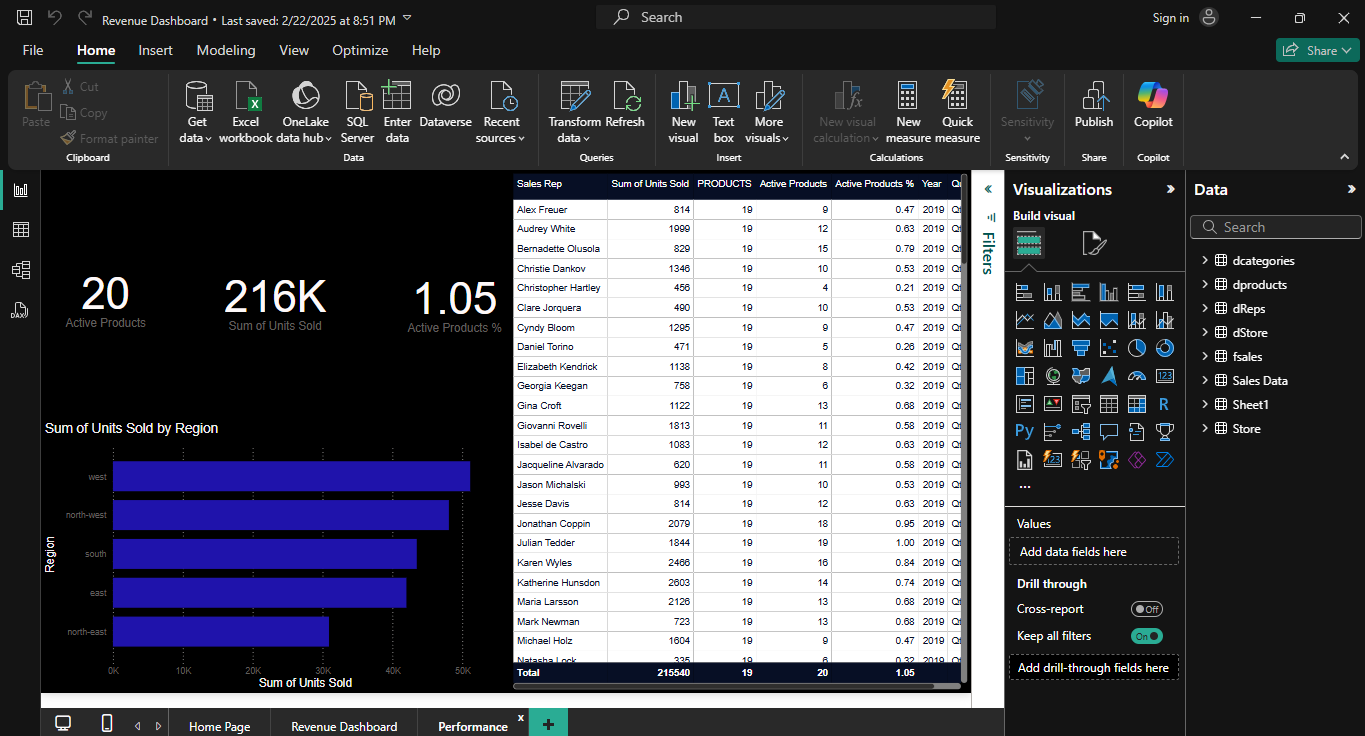

The page's visual inventory and layout, read from the dashboard file:
{"tool":"powerbi","page":{"name":"Performance","canvas":[1280,720],"ordinal":2},"visuals":[{"type":"card","fields":{"Values":["fsales.Active Products"]},"box":[0,0,177.5,348.2],"z":0},{"type":"card","fields":{"Values":["fsales.Active Products %"]},"box":[494.1,0,150,360.6],"z":1000},{"type":"card","fields":{"Values":["fsales.Units Sold"]},"box":[177.5,0,316.6,345.5],"z":2000},{"type":"barChart","fields":{"Category":["fsales.Region"],"Y":["fsales.Units Sold"]},"box":[0,345.5,644.1,374.4],"z":3000},{"type":"tableEx","fields":{"Values":["dReps.Sales Rep","fsales.Units Sold","fsales.PRODUCTS","fsales.Active Products","fsales.Active Products %","fsales.Order Date.Variation.Date Hierarchy.Year","fsales.Order Date.Variation.Date Hierarchy.Quarter"]},"box":[643.7,0,635.7,720],"z":4000}]}

Visuals, with their boxes on the page's 1280x720 design canvas (x1, y1, x2, y2). These are canvas units, not pixel positions in the 1365x736 screenshot, which may show the page scaled, cropped or inside an application window:
card - fsales.Active Products: BBox(0, 0, 178, 348)
card - fsales.Active Products %: BBox(494, 0, 644, 361)
card - fsales.Units Sold: BBox(178, 0, 494, 346)
barChart - fsales.Region x fsales.Units Sold: BBox(0, 346, 644, 720)
tableEx - dReps.Sales Rep x fsales.Units Sold: BBox(644, 0, 1279, 720)
